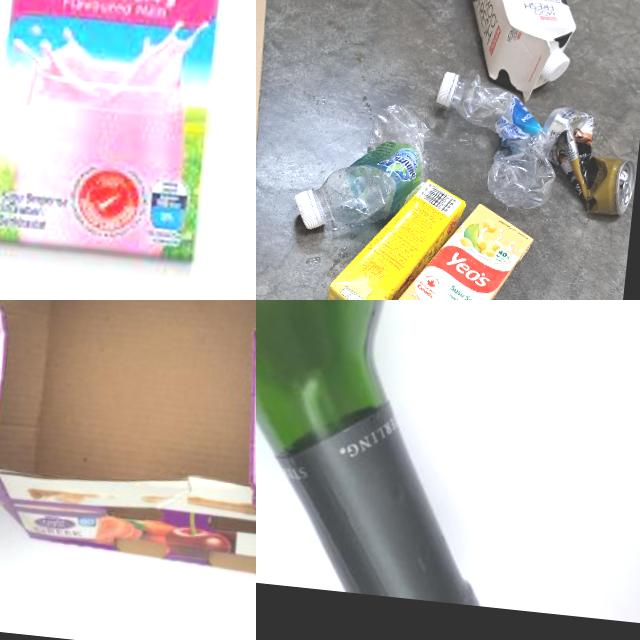aba de lata: (618, 169, 635, 202)
caixinha: (0, 0, 247, 276), (322, 167, 466, 300), (381, 195, 536, 300), (446, 0, 587, 106)
garrafa de vidro: (256, 300, 532, 606)
garrafa plástica: (294, 96, 430, 240), (428, 72, 564, 212)
lata: (535, 104, 640, 219)
papelão: (0, 300, 256, 640)
tampa plástica: (294, 187, 330, 233), (540, 49, 571, 86), (436, 72, 462, 105)
